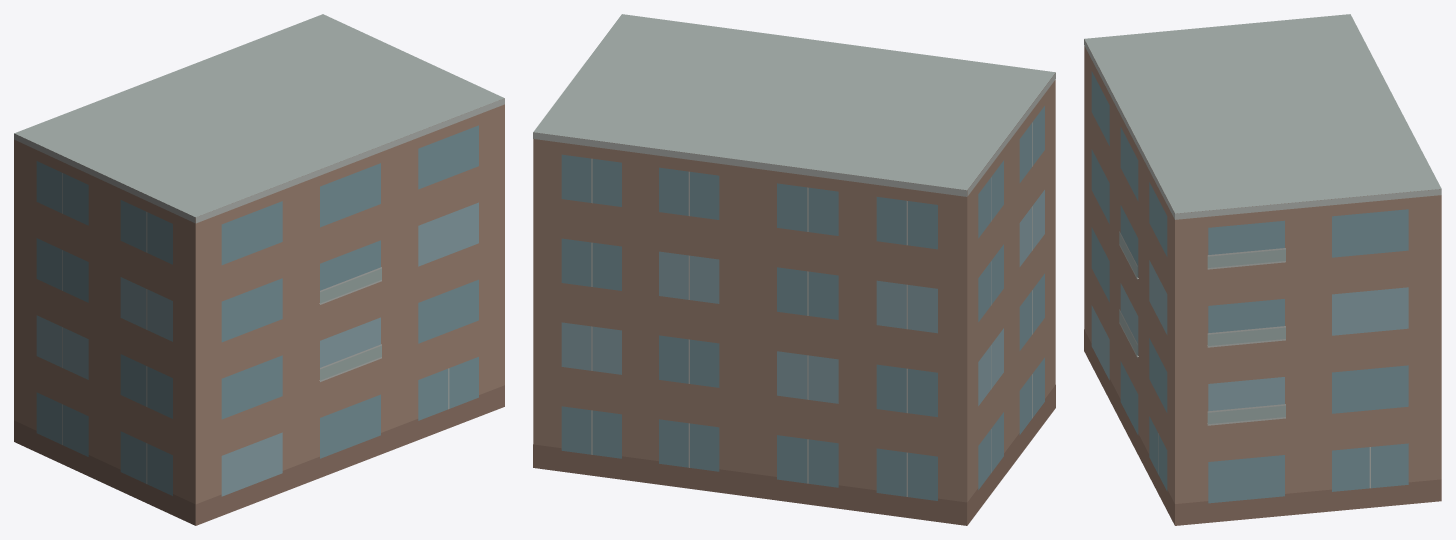
File: residential-438866ac-4ec6-4f44-8eb2-fcddb66317ac.glb
The picture shows the model from 3 angles, left to right: view 1: azimuth 30°, elevation 25°; view 2: azimuth 150°, elevation 25°; view 3: azimuth 270°, elevation 25°; orthographic projection. The views are drawn at different scales.
Parts seen in each view (by area): view 1: residential-438866ac-4ec6-4f44-8eb2-fcddb66317ac.tmp; view 2: residential-438866ac-4ec6-4f44-8eb2-fcddb66317ac.tmp; view 3: residential-438866ac-4ec6-4f44-8eb2-fcddb66317ac.tmp.
Boxes of the visible parts, bbox=[...] form: residential-438866ac-4ec6-4f44-8eb2-fcddb66317ac.tmp: bbox=[14, 14, 504, 525]; residential-438866ac-4ec6-4f44-8eb2-fcddb66317ac.tmp: bbox=[533, 14, 1055, 525]; residential-438866ac-4ec6-4f44-8eb2-fcddb66317ac.tmp: bbox=[1084, 14, 1441, 525].
Bounding box in the file's own units: 16.73 × 12.2 × 12.67.
